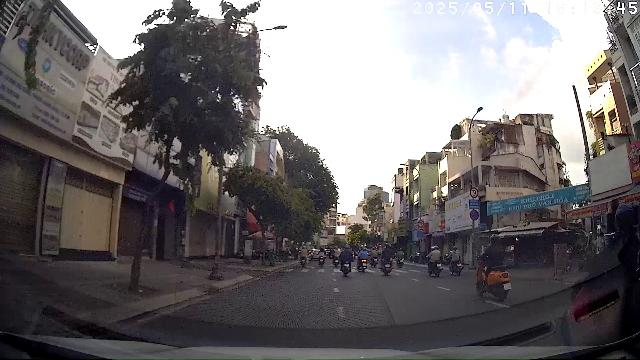103c-cam-oto-re-trai: (469, 188, 478, 198)
123a-cam-re-trai: (418, 221, 424, 228)
